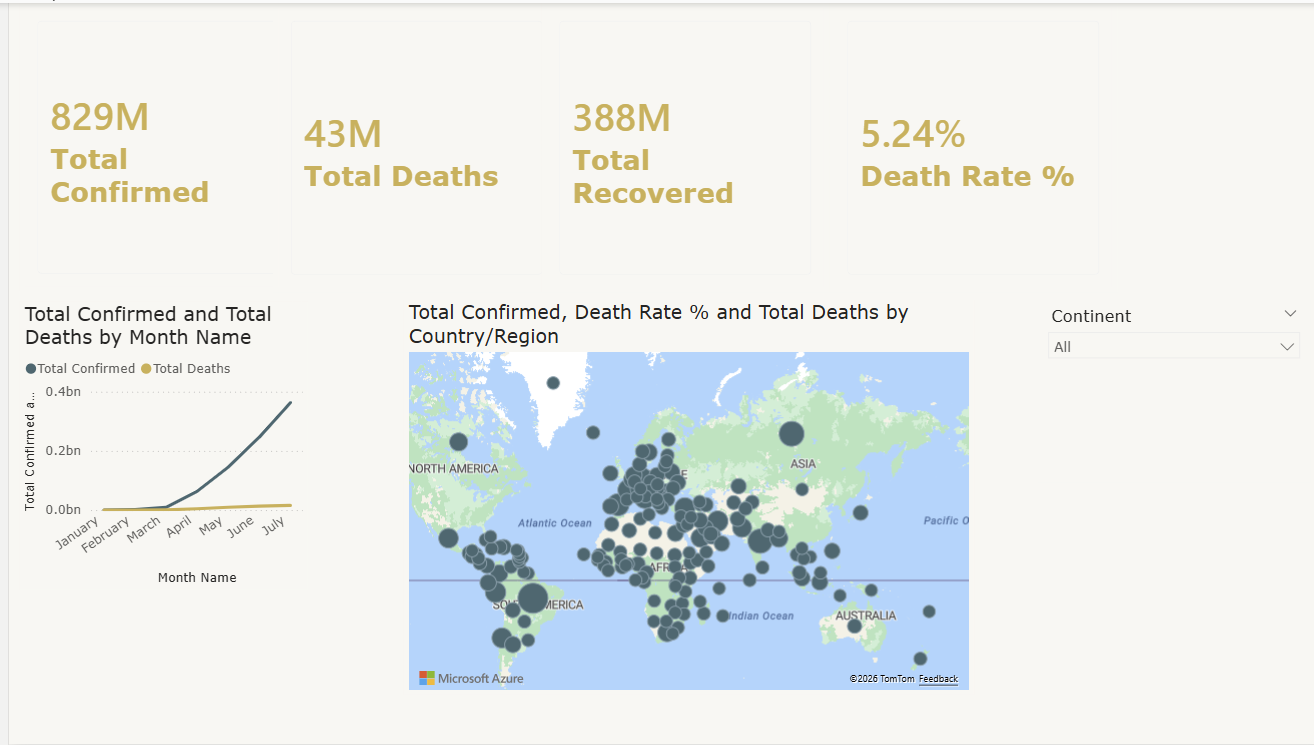

The page's visual inventory and layout, read from the dashboard file:
{"tool":"powerbi","page":{"name":"Global Overview","canvas":[1280,720],"ordinal":0},"visuals":[{"type":"cardVisual","fields":{"Data":["Table.Total Confirmed"]},"box":[10,0,280,280],"z":0},{"type":"cardVisual","fields":{"Data":["Table.Total Deaths"]},"box":[257,0,279.7,281.6],"z":1000},{"type":"cardVisual","fields":{"Data":["Table.Total Recovered"]},"box":[517.8,0,279.7,281.6],"z":2000},{"type":"cardVisual","fields":{"Data":["Table.Death Rate %"]},"box":[797.5,0,279.7,281.6],"z":3000},{"type":"lineChart","fields":{"Category":["Date.Month Name"],"Y":["Table.Total Confirmed","Table.Total Deaths"]},"box":[10,290,280,280],"z":4000},{"type":"slicer","fields":{"Values":["Countries.Continent"]},"box":[999.7,289.1,264.6,177.6],"z":5000},{"type":"azureMap","fields":{"Category":["Countries.Country/Region"],"Size":["Table.Total Confirmed"]},"box":[383.6,289.1,553.7,383.6],"z":6000}]}

Visuals, with their boxes in screenshot pixels (x1, y1, x2, y2), scaled from the page's 1280x720 canvas onto the 1314x745 screenshot:
cardVisual - Table.Total Confirmed: 10,0,298,290
cardVisual - Table.Total Deaths: 264,0,551,291
cardVisual - Table.Total Recovered: 532,0,819,291
cardVisual - Table.Death Rate %: 819,0,1106,291
lineChart - Date.Month Name x Table.Total Confirmed: 10,300,298,590
slicer - Countries.Continent: 1026,299,1298,483
azureMap - Countries.Country/Region x Table.Total Confirmed: 394,299,962,696
